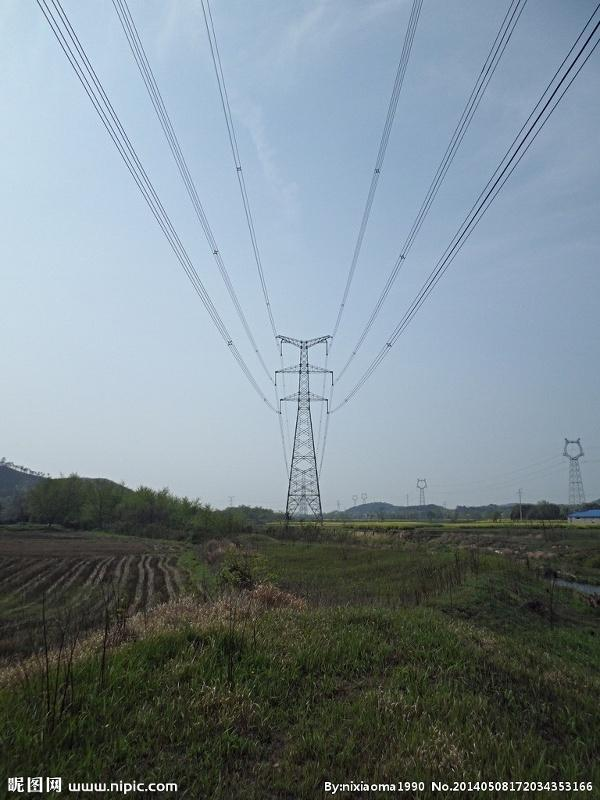power_tower: (272, 334, 337, 534), (562, 435, 586, 510), (412, 475, 431, 522), (351, 491, 360, 510), (226, 494, 238, 506), (359, 492, 370, 504)
